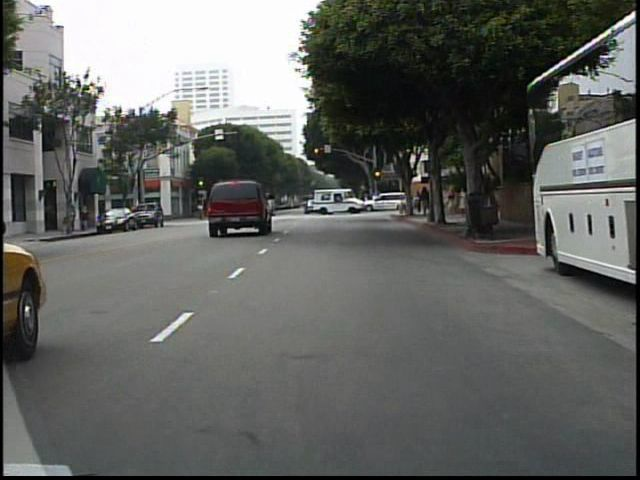person: (446, 183, 461, 222), (460, 181, 469, 219)
